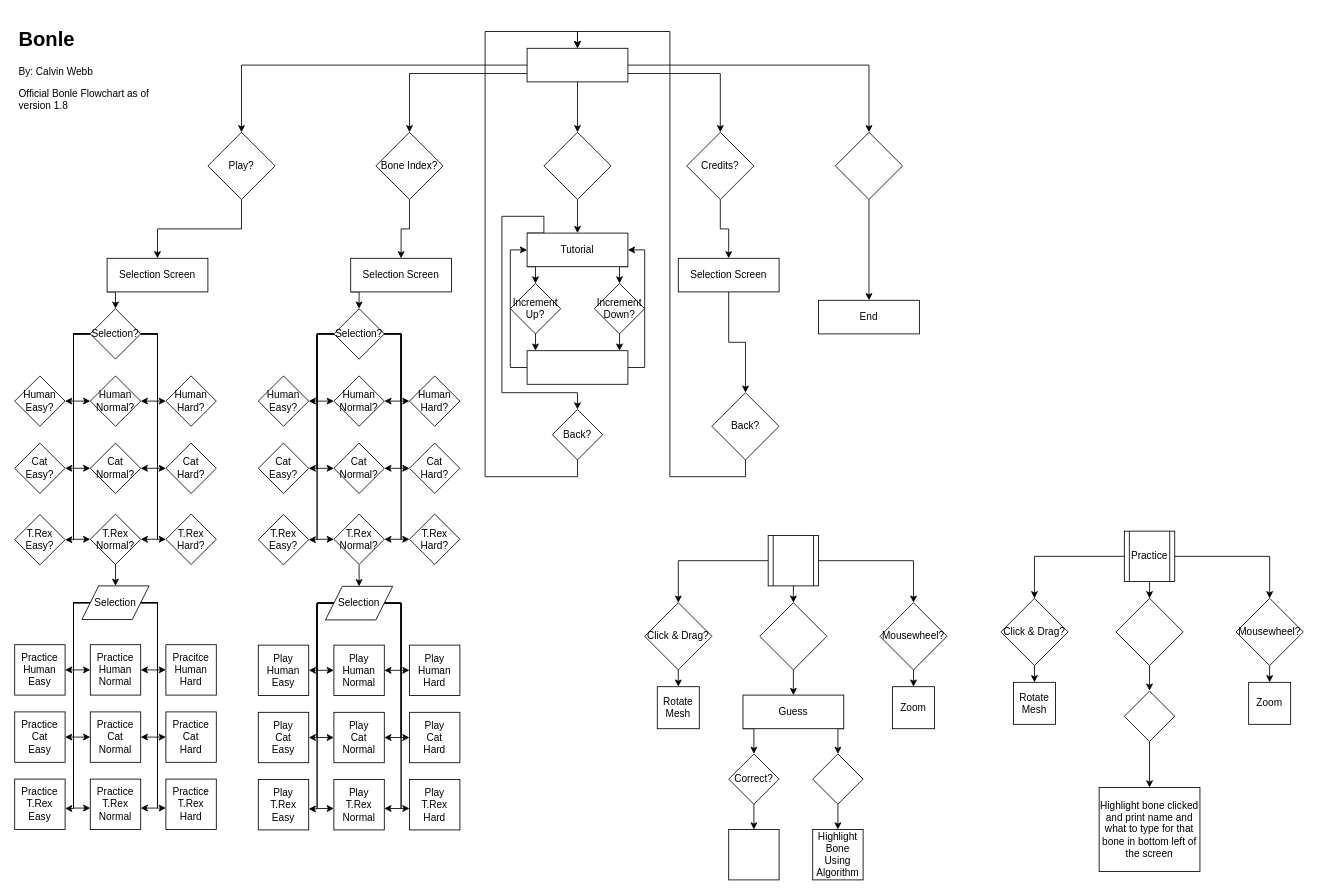
This 1318x895 diagram has some shape labels left out. The centre of each missing label's shape, as x and y in pixels:
"Change Slide" goes at point 577,367.
"Click?" goes at point 1149,631.
"Game Over Screen" goes at point 753,854.
"Hit Bone?" goes at point 1149,715.
"Incorrect?" goes at point 837,778.
"Input Box?" goes at point 793,636.
"Play" goes at point 793,560.
"Quit?" goes at point 869,165.
"Start/Title Screen" goes at point 577,64.
"Tutorial?" goes at point 577,165.
